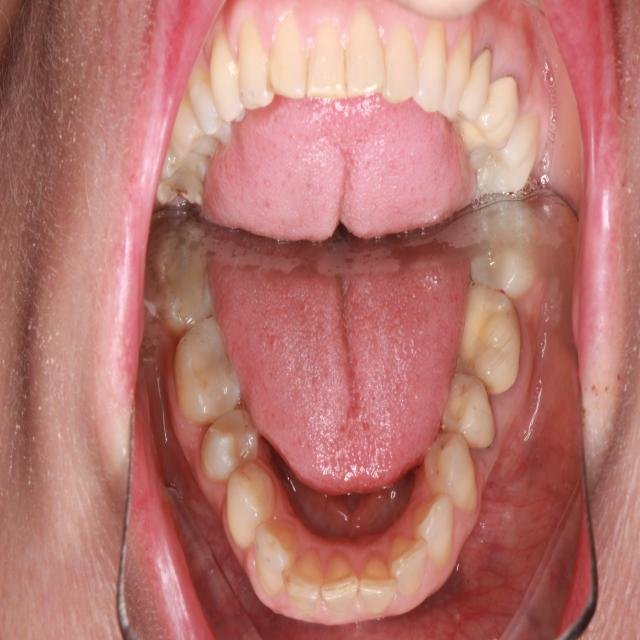tooth: (451, 277, 525, 396), (172, 312, 247, 428), (150, 223, 222, 341), (430, 365, 500, 455), (419, 424, 482, 518), (221, 458, 281, 553), (195, 402, 262, 487), (250, 510, 299, 601), (462, 244, 537, 302), (409, 490, 461, 571), (283, 535, 326, 621), (384, 529, 433, 601), (319, 544, 361, 624), (355, 550, 398, 621)
